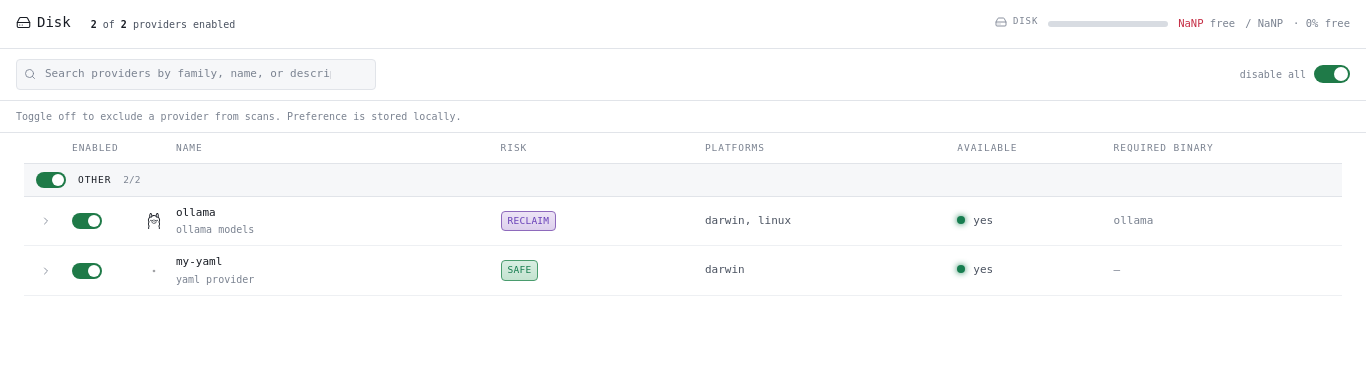
Test: Providers page — details expansion › collapsing removes the panel from the DOM
The width and height of the screenshot is (1366, 374).
Click the button named "show details for ollama": (46, 221) 36,211 -> 56,231
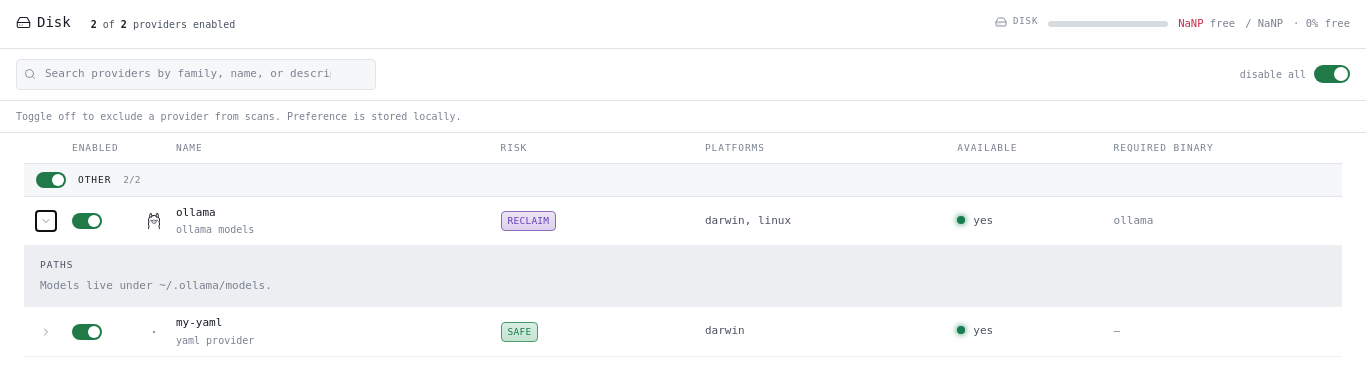
Click the button named "show details for ollama": (46, 221) 36,211 -> 56,231
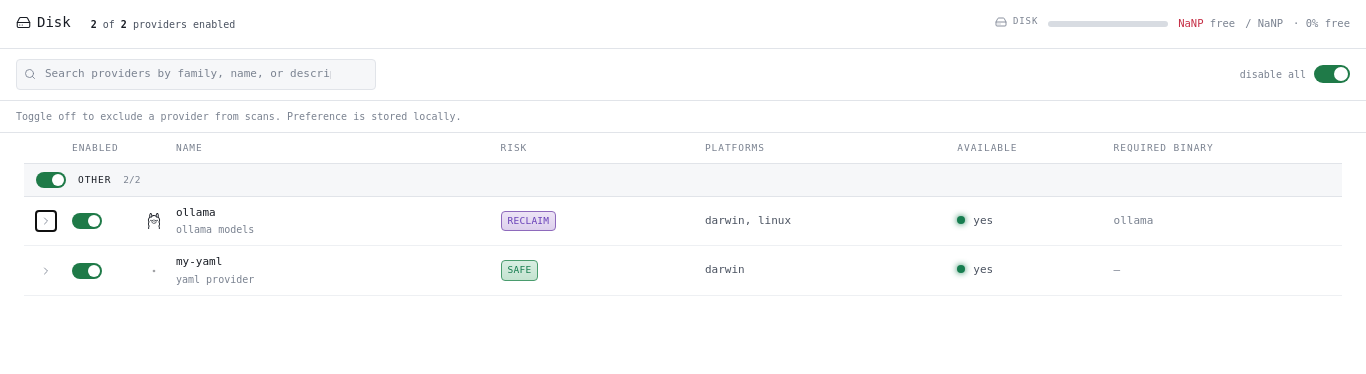
Expected: the button named "show details for ollama" is collapsed, 36,211 -> 56,231
